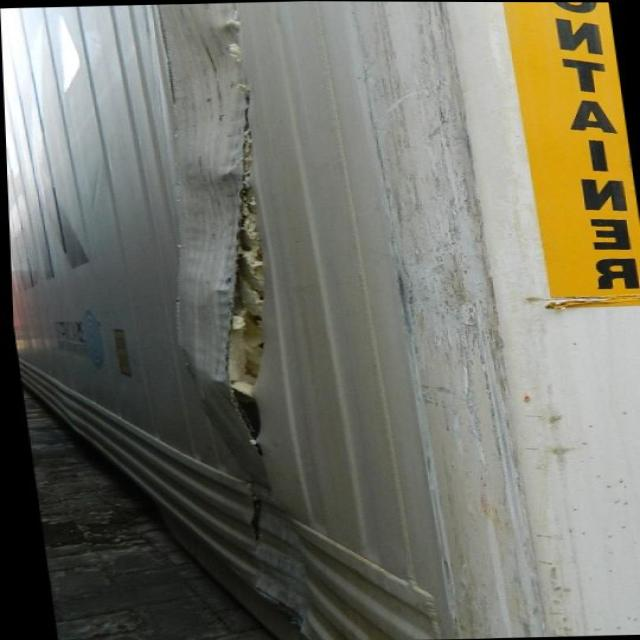hole: (179, 80, 304, 456), (237, 484, 290, 559)
